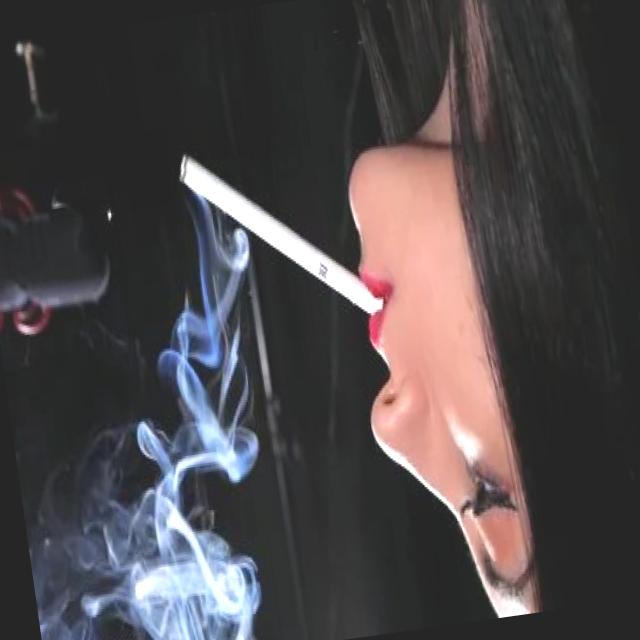cigarette: (174, 126, 384, 339)
